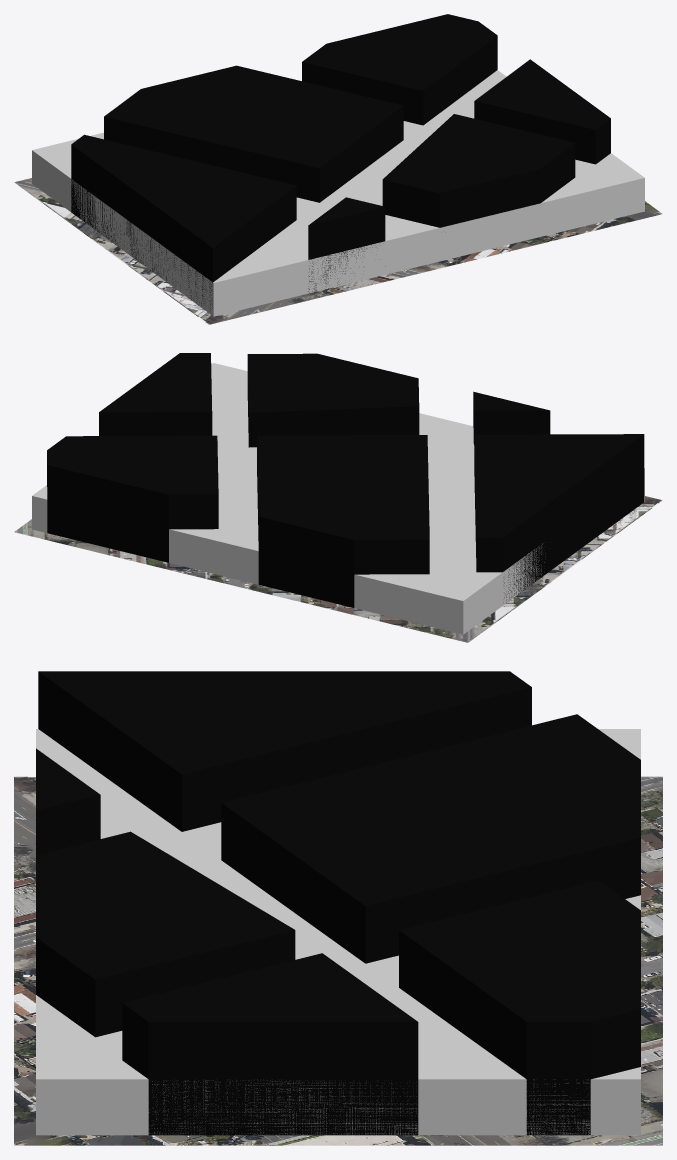
File: east_village_residences.glb
3 renders of one model, top to bottom at view 1: azimuth 30°, elevation 25°; view 2: azimuth 150°, elevation 25°; view 3: azimuth 270°, elevation 25°, orthographic. The views are drawn at different scales.
Visible parts, largest first — view 1: walls, outer_box, floorplan_00; view 2: walls, outer_box, floorplan_00; view 3: walls, outer_box, floorplan_00.
Part boxes in pixels (x1,y1,x2,y2): walls: (71, 14, 610, 310); outer_box: (32, 70, 644, 316); floorplan_00: (14, 178, 662, 324); walls: (47, 353, 644, 607); outer_box: (32, 363, 644, 634); floorplan_00: (14, 496, 662, 642); walls: (36, 671, 640, 1135); outer_box: (36, 729, 640, 1135); floorplan_00: (14, 776, 662, 1145).
Bounding box in the file's own units: 228 × 33.04 × 170.
Materials: 3 (1 with a texture image).
